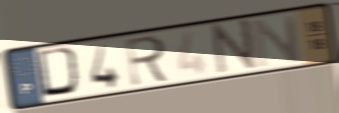4: (175, 27, 210, 78), (88, 41, 123, 91)
D: (35, 45, 85, 100)
N: (251, 12, 303, 71), (211, 17, 259, 77)
R: (124, 33, 173, 89)
